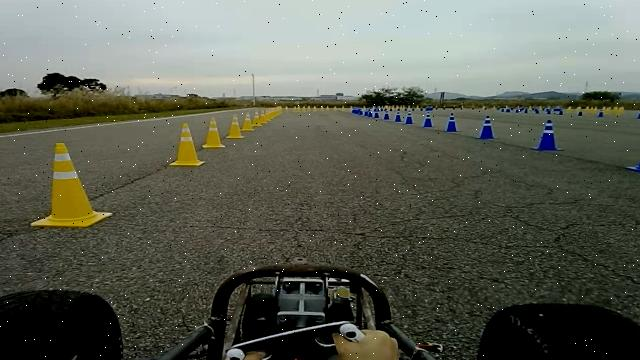blue cone: (531, 118, 563, 150), (477, 115, 498, 139), (446, 112, 460, 132), (422, 112, 434, 127), (405, 111, 414, 124), (394, 111, 403, 122), (372, 107, 380, 118), (384, 108, 390, 120)
yellow cone: (31, 142, 113, 228), (169, 122, 206, 166), (202, 117, 226, 148), (226, 114, 245, 139), (241, 112, 255, 131), (252, 111, 263, 126), (260, 113, 268, 124)
